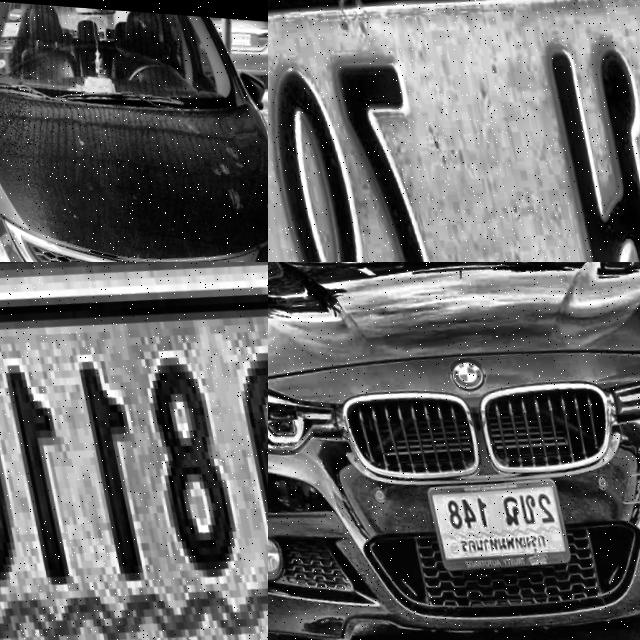license-plate: (0, 262, 268, 640), (268, 0, 640, 262), (414, 456, 565, 573)
